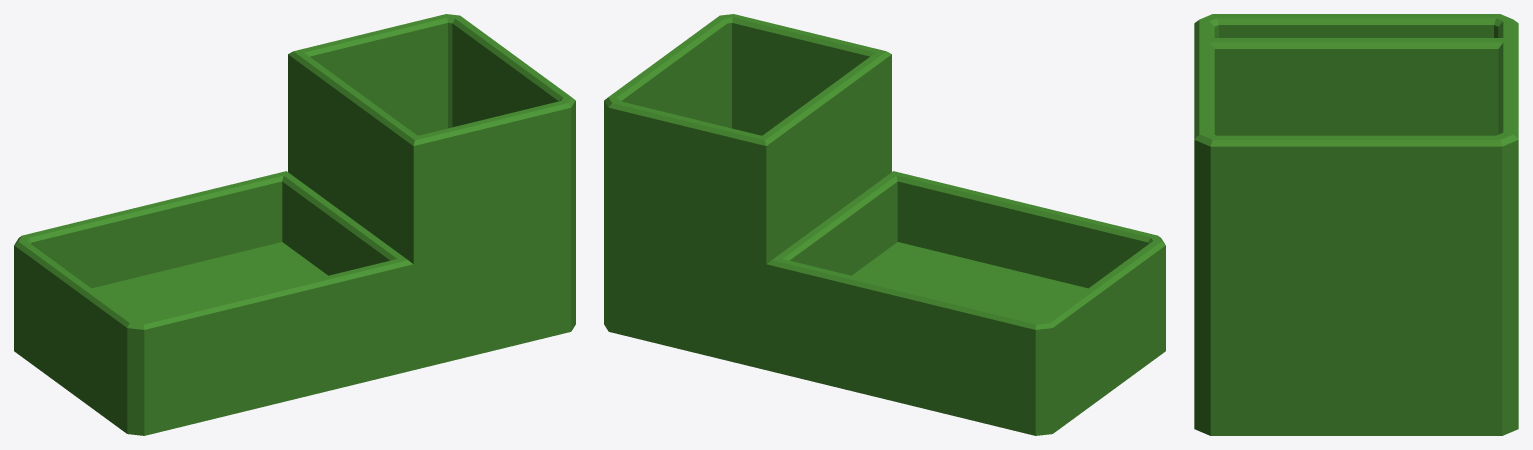
Rendered from SM_Cook_CondimentCaddy_01.obj.
3 renders of one model, left to right at view 1: azimuth 30°, elevation 25°; view 2: azimuth 150°, elevation 25°; view 3: azimuth 270°, elevation 25°, orthographic. The views are drawn at different scales.
Parts seen in each view (by area): view 1: SM_Cook_CondimentCaddy_01; view 2: SM_Cook_CondimentCaddy_01; view 3: SM_Cook_CondimentCaddy_01.
Part boxes in pixels (x1,y1,x2,y2): SM_Cook_CondimentCaddy_01: (14,14,575,435); SM_Cook_CondimentCaddy_01: (604,14,1165,435); SM_Cook_CondimentCaddy_01: (1194,14,1518,435).
Bounding box in the file's own units: 0.33 × 0.16 × 0.16.
Materials: 1 (1 with a texture image).
